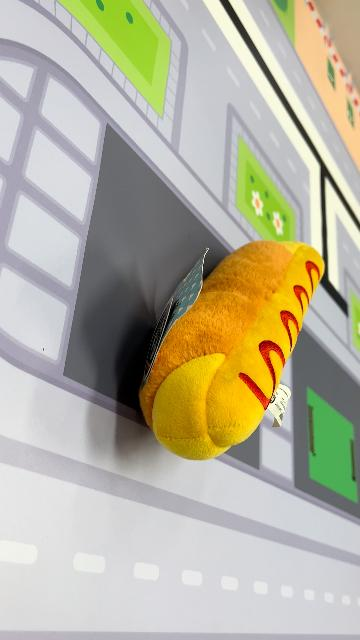hotdog: (138, 239, 327, 463)
